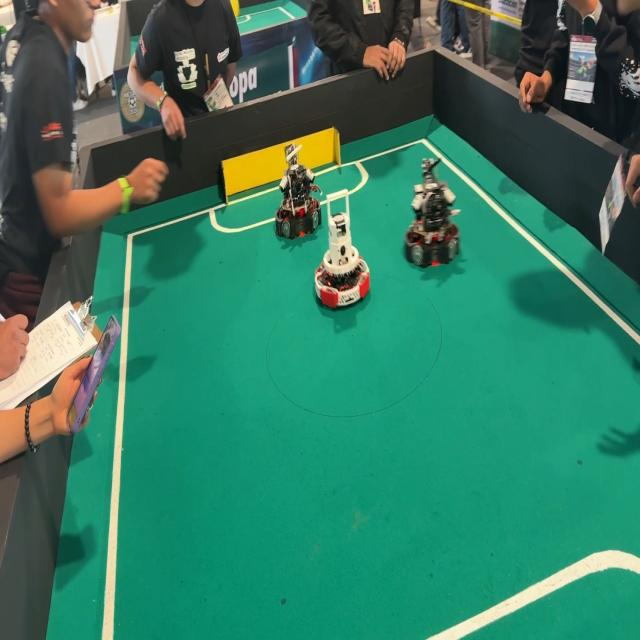Robot: (312, 184, 378, 318), (398, 152, 466, 277), (272, 134, 323, 247)
